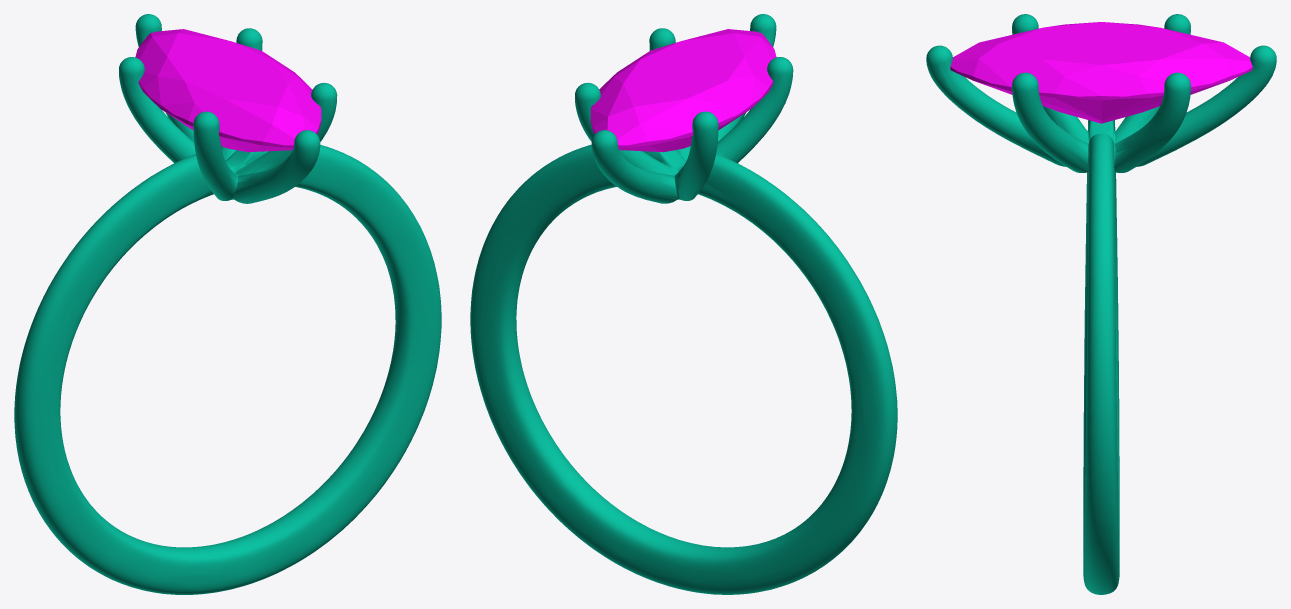
Rendered from BE14112_MQ_200ct_RENDER.glb.
3 views of the same model, side by side, from view 1: azimuth 30°, elevation 25°; view 2: azimuth 150°, elevation 25°; view 3: azimuth 270°, elevation 25° (orthographic). The views are drawn at different scales.
Parts seen in each view (by area): view 1: Metal 01, CS_Diamond_Marquise; view 2: Metal 01, CS_Diamond_Marquise; view 3: Metal 01, CS_Diamond_Marquise.
Part boxes in pixels (<box>): Metal 01: <box>14,14,441,594</box>; CS_Diamond_Marquise: <box>135,29,321,152</box>; Metal 01: <box>470,14,897,594</box>; CS_Diamond_Marquise: <box>590,29,776,152</box>; Metal 01: <box>926,14,1276,594</box>; CS_Diamond_Marquise: <box>950,22,1252,123</box>.
Size of the model in its own units: 20.5 by 23.99 by 14.43.
